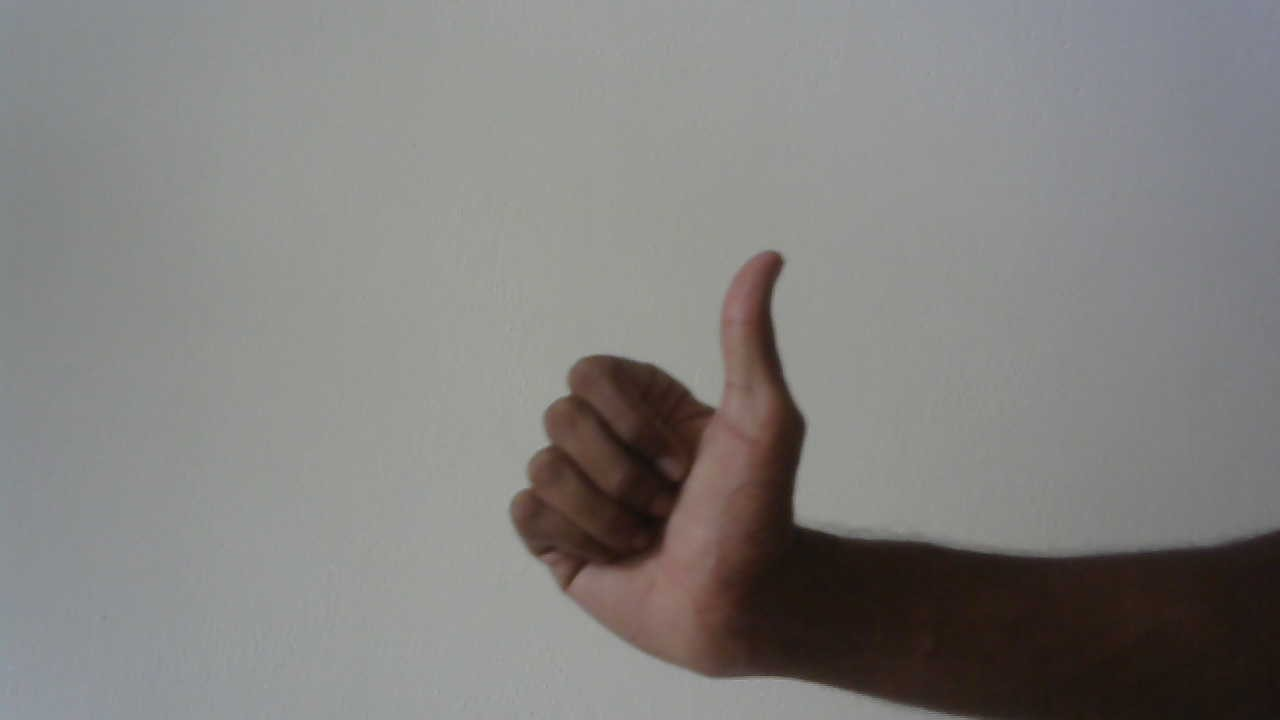thumbsup: (499, 237, 842, 677)
